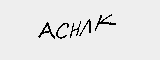А: (34, 18, 56, 41)
К: (93, 12, 116, 33)
Л: (78, 17, 95, 41)
Н: (69, 18, 81, 39)
С: (53, 21, 70, 40)
